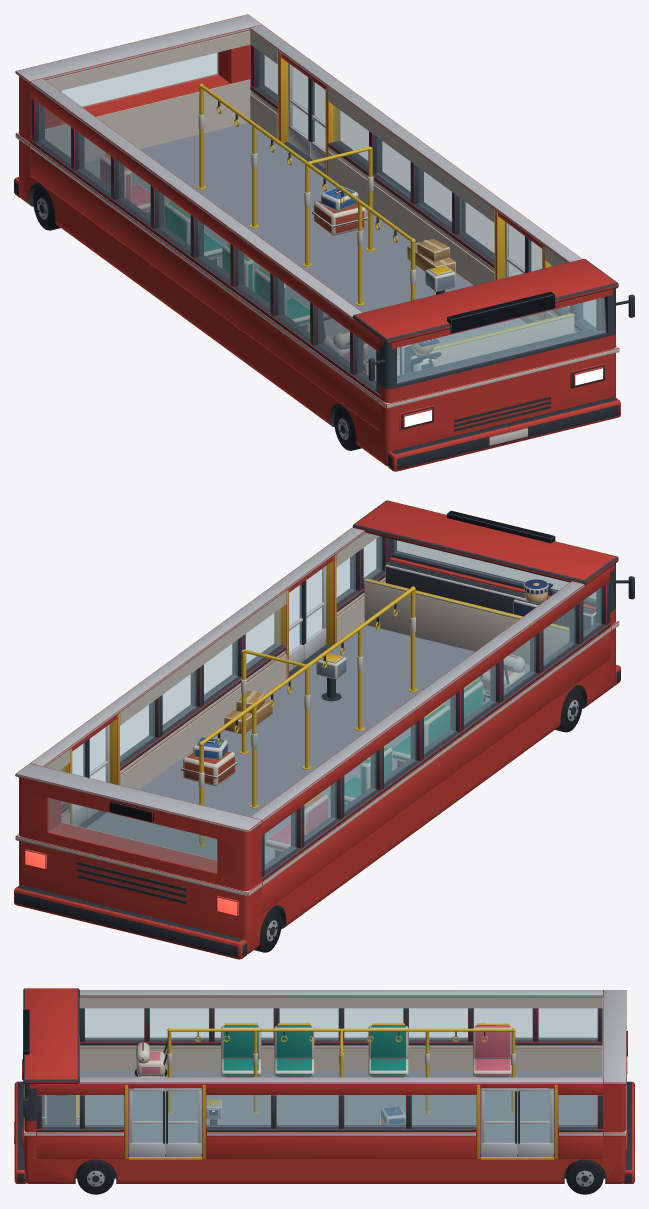
Rendered from bus.glb.
3 views of the same model, one above another, from view 1: azimuth 30°, elevation 25°; view 2: azimuth 150°, elevation 25°; view 3: azimuth 270°, elevation 25° (orthographic). The views are drawn at different scales.
Visible parts, largest first — view 1: bus_lower, bus_far_upper, floor_surface, bus_nose_upper, bus_interior, bus_near_upper, bus_chassis, bus_tail_upper, door_back_a, door_back_b, sign_front, door_front_a (+2 smaller); view 2: bus_lower, bus_interior, bus_far_upper, floor_surface, bus_near_upper, bus_tail_upper, bus_chassis, bus_nose_upper, door_front_b, door_front_a, door_back_b, axle_rear (+2 smaller); view 3: bus_lower, bus_far_upper, bus_near_upper, floor_surface, bus_interior, bus_chassis, bus_nose_upper, bus_tail_upper, door_back_b, door_front_a, door_front_b, door_back_a (+2 smaller).
Part boxes in pixels (x1=…): bus_lower: x1=14, y1=51, x2=620, y2=471; bus_far_upper: x1=29, y1=78, x2=379, y2=393; floor_surface: x1=84, y1=122, x2=526, y2=372; bus_nose_upper: x1=352, y1=259, x2=634, y2=389; bus_interior: x1=100, y1=83, x2=596, y2=380; bus_near_upper: x1=249, y1=25, x2=600, y2=331; bus_chassis: x1=19, y1=167, x2=615, y2=466; bus_tail_upper: x1=15, y1=14, x2=261, y2=132; door_back_a: x1=288, y1=63, x2=310, y2=157; door_back_b: x1=310, y1=79, x2=325, y2=168; sign_front: x1=455, y1=297, x2=552, y2=331; door_front_a: x1=505, y1=221, x2=526, y2=277; bus_lower: x1=14, y1=554, x2=620, y2=959; bus_interior: x1=181, y1=561, x2=596, y2=856; bus_far_upper: x1=250, y1=568, x2=609, y2=876; floor_surface: x1=86, y1=625, x2=529, y2=864; bus_near_upper: x1=30, y1=527, x2=389, y2=803; bus_tail_upper: x1=15, y1=763, x2=262, y2=880; bus_chassis: x1=19, y1=655, x2=615, y2=954; bus_nose_upper: x1=352, y1=500, x2=634, y2=612; door_front_b: x1=304, y1=566, x2=326, y2=660; door_front_a: x1=289, y1=581, x2=304, y2=671; door_back_b: x1=87, y1=724, x2=109, y2=818; axle_rear: x1=254, y1=907, x2=281, y2=952; bus_lower: x1=14, y1=1037, x2=634, y2=1183; bus_far_upper: x1=79, y1=990, x2=603, y2=1041; bus_near_upper: x1=36, y1=1077, x2=603, y2=1128; floor_surface: x1=80, y1=1071, x2=602, y2=1153; bus_interior: x1=42, y1=1023, x2=515, y2=1124; bus_chassis: x1=24, y1=1157, x2=625, y2=1183; bus_nose_upper: x1=23, y1=988, x2=79, y2=1121; bus_tail_upper: x1=602, y1=990, x2=627, y2=1123; door_back_b: x1=481, y1=1088, x2=516, y2=1156; door_front_a: x1=166, y1=1088, x2=201, y2=1156; door_front_b: x1=129, y1=1088, x2=164, y2=1156; door_back_a: x1=518, y1=1088, x2=553, y2=1156.
Size of the model in its own units: 6.08 by 3.29 by 15.17.
